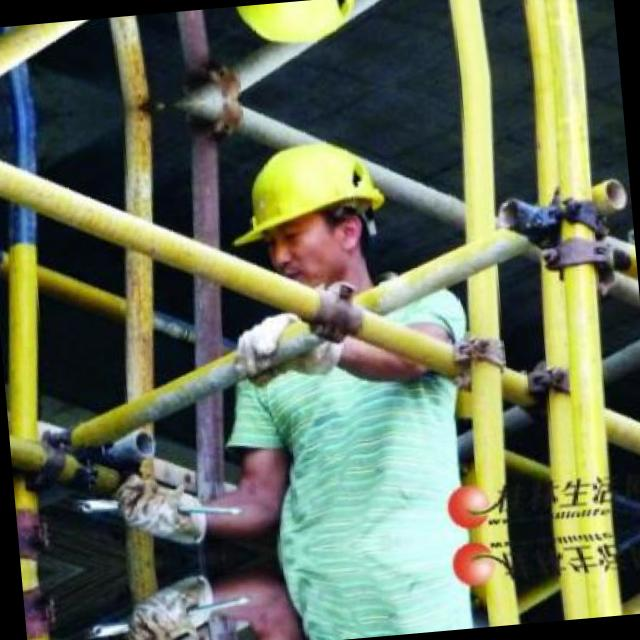helmet: (221, 118, 400, 306), (209, 0, 380, 68)
